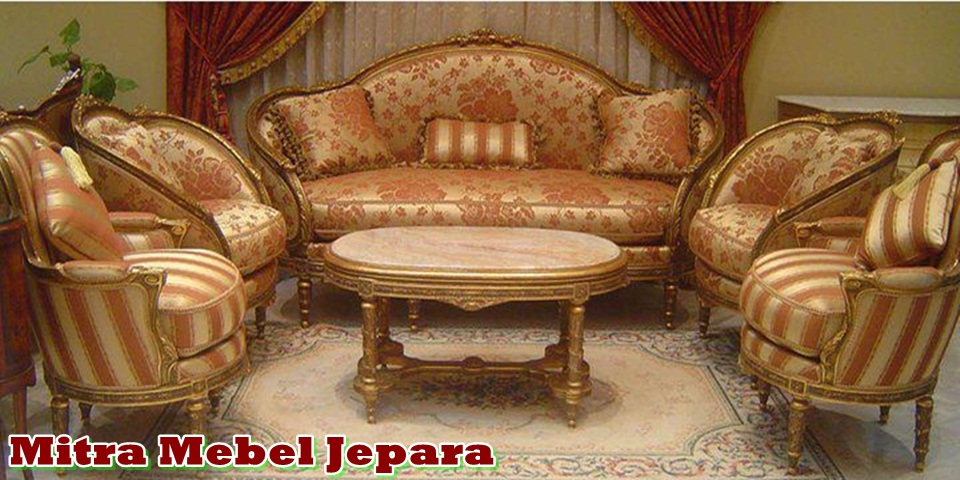Carving Table: (314, 225, 629, 439)
